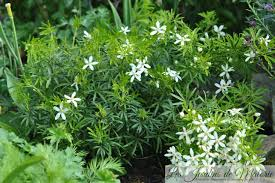flower: (192, 112, 213, 134), (60, 89, 84, 108), (174, 124, 194, 146), (197, 141, 217, 161), (51, 101, 70, 122), (149, 17, 168, 38), (197, 124, 218, 143), (211, 78, 234, 94), (218, 61, 237, 79), (209, 131, 227, 150), (80, 55, 100, 72), (127, 62, 143, 83), (164, 144, 183, 161), (175, 31, 192, 49), (201, 159, 219, 176), (185, 149, 202, 166), (225, 135, 242, 151), (134, 56, 153, 70), (261, 31, 274, 49), (243, 50, 261, 63), (225, 106, 244, 118), (213, 22, 226, 39), (170, 161, 185, 174), (161, 65, 176, 77), (118, 24, 130, 35), (237, 126, 248, 138), (217, 149, 229, 160), (84, 29, 94, 40), (172, 72, 182, 82)
